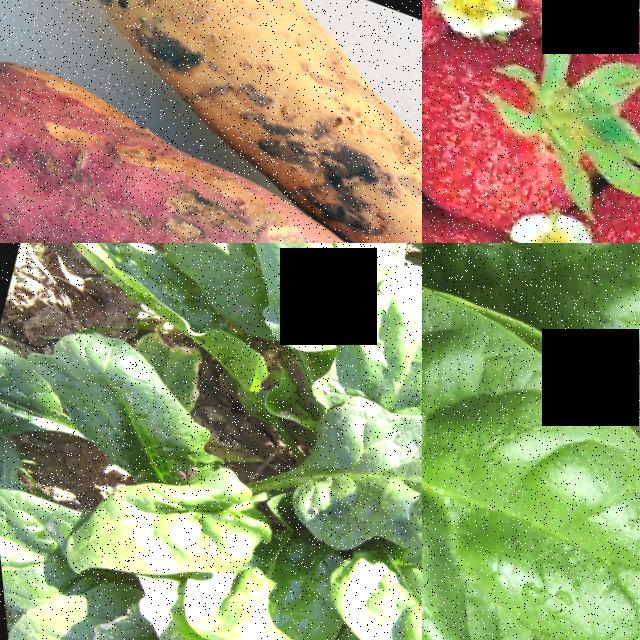spinach: (422, 255, 640, 640), (30, 426, 278, 622), (13, 319, 225, 474), (283, 376, 422, 586), (422, 243, 640, 371), (313, 250, 422, 431), (200, 243, 422, 310), (304, 521, 422, 640)
strawberry: (422, 19, 544, 224), (617, 0, 640, 175)
sweet potato: (0, 0, 422, 204), (0, 113, 422, 243), (365, 140, 422, 243)
